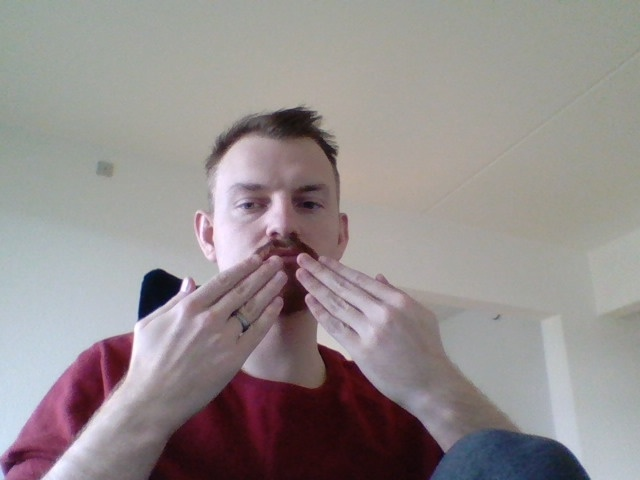ThankYou: (133, 254, 446, 414)
